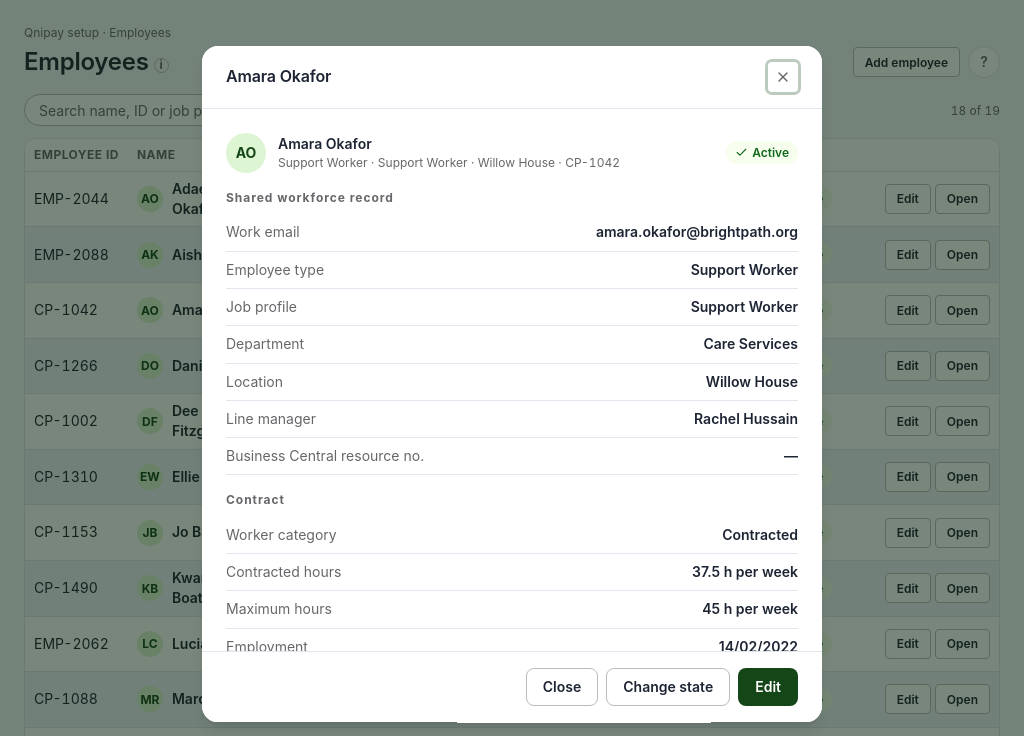
Test case: an employee deep link opens their record, and closing it drops the link
Check: the heading with test id "modal-title" reads "Amara Okafor", box [226,66,331,86]
Click the button with test id "modal-close".
click(783, 77)  # box [768,62,798,92]
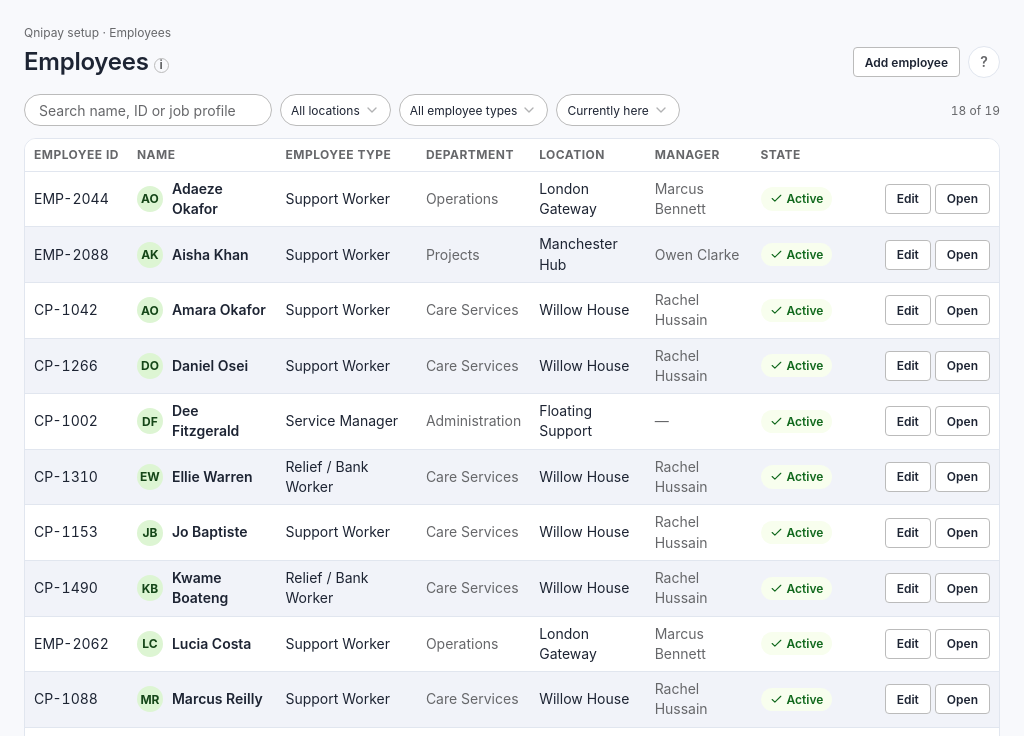
Check: the dialog with test id "modal" is gone
